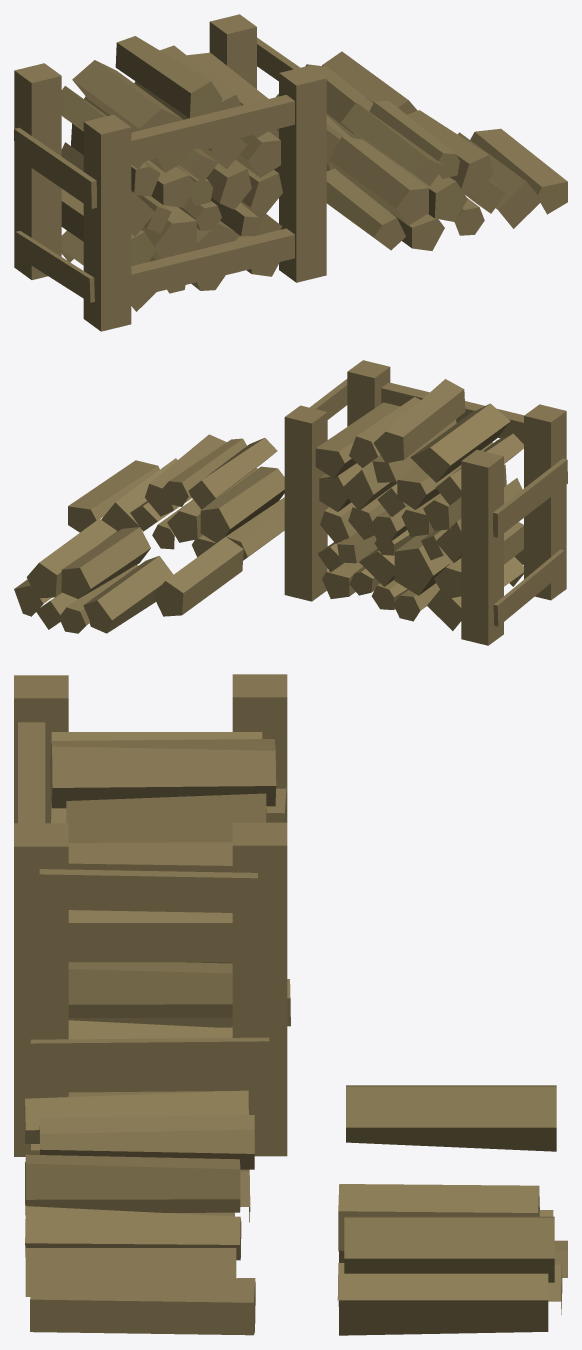
Rendered from woodpiles.fbx.
The picture shows the model from 3 angles, top to bottom: view 1: azimuth 30°, elevation 25°; view 2: azimuth 150°, elevation 25°; view 3: azimuth 270°, elevation 25°; orthographic projection. The views are drawn at different scales.
Parts seen in each view (by area): view 1: woodpile_01, woodpile_02, woodpile_03; view 2: woodpile_01, woodpile_02, woodpile_03, woodpile_04; view 3: woodpile_01, woodpile_02, woodpile_03, woodpile_04.
Part boxes in pixels (x1,y1,x2,y2): woodpile_01: (14, 14, 326, 331); woodpile_02: (326, 100, 567, 250); woodpile_03: (276, 51, 417, 170); woodpile_01: (284, 360, 567, 645); woodpile_02: (68, 434, 284, 560); woodpile_03: (14, 518, 173, 633); woodpile_04: (153, 536, 243, 616); woodpile_01: (14, 674, 290, 1156); woodpile_02: (24, 1090, 255, 1335); woodpile_03: (337, 1184, 567, 1335); woodpile_04: (346, 1085, 556, 1151).
Size of the model in its own units: 6.41 by 2.89 by 4.05.
